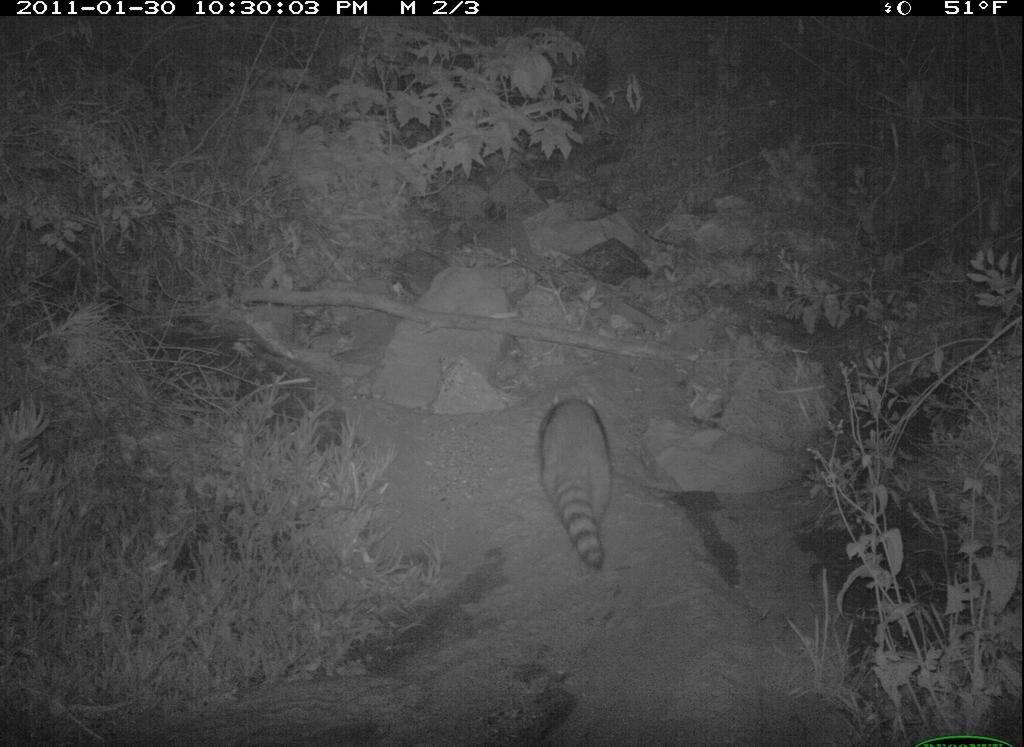raccoon: (542, 374, 643, 597)
